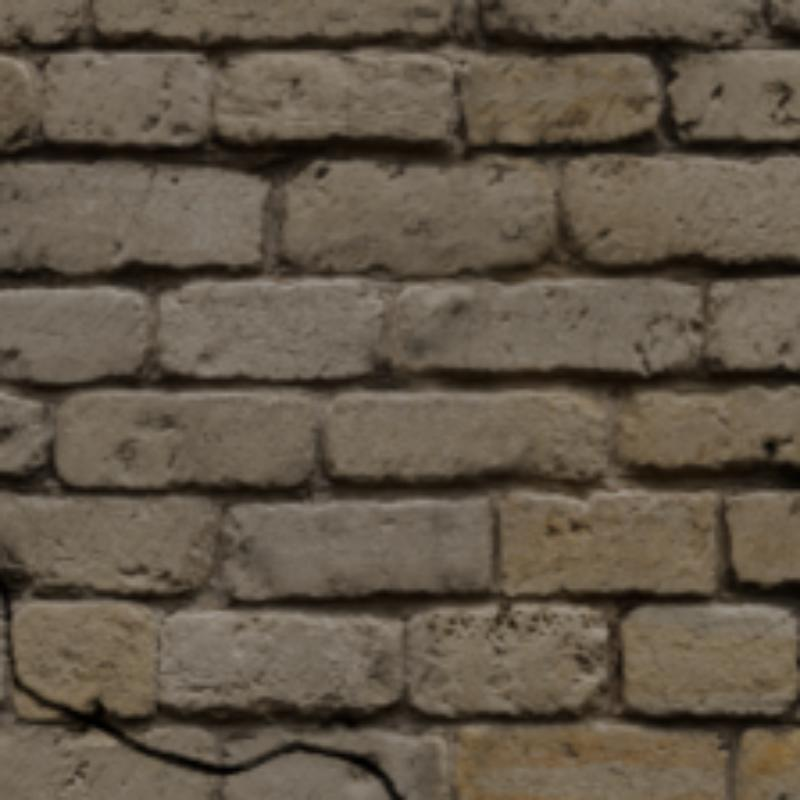crack: (0, 579, 400, 796)
